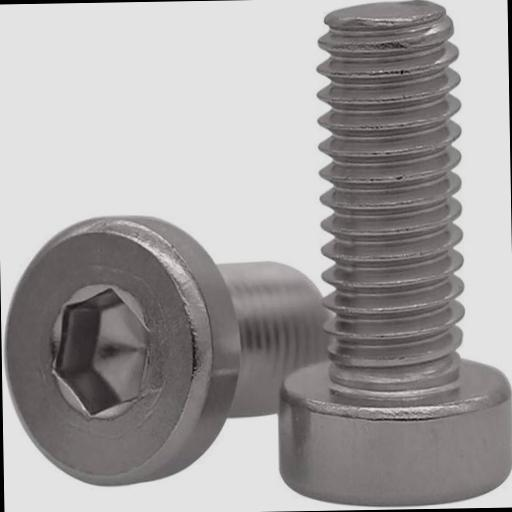Hex-Allen: (3, 212, 240, 490)
